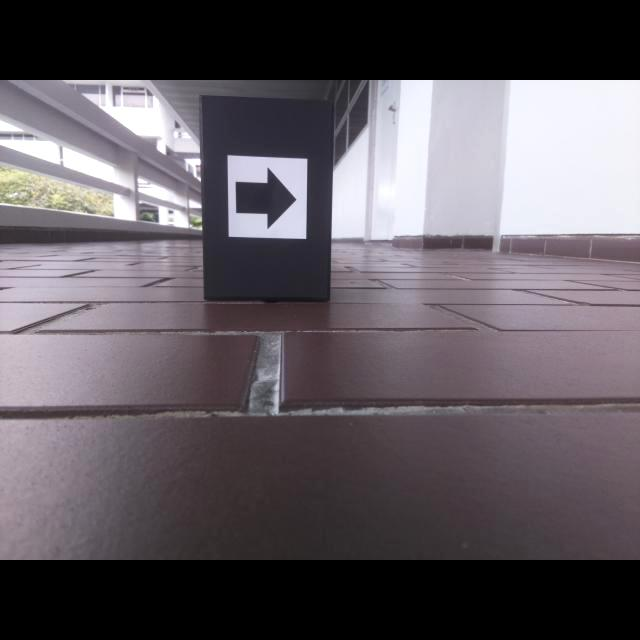RIGHT: (235, 165, 297, 232)
